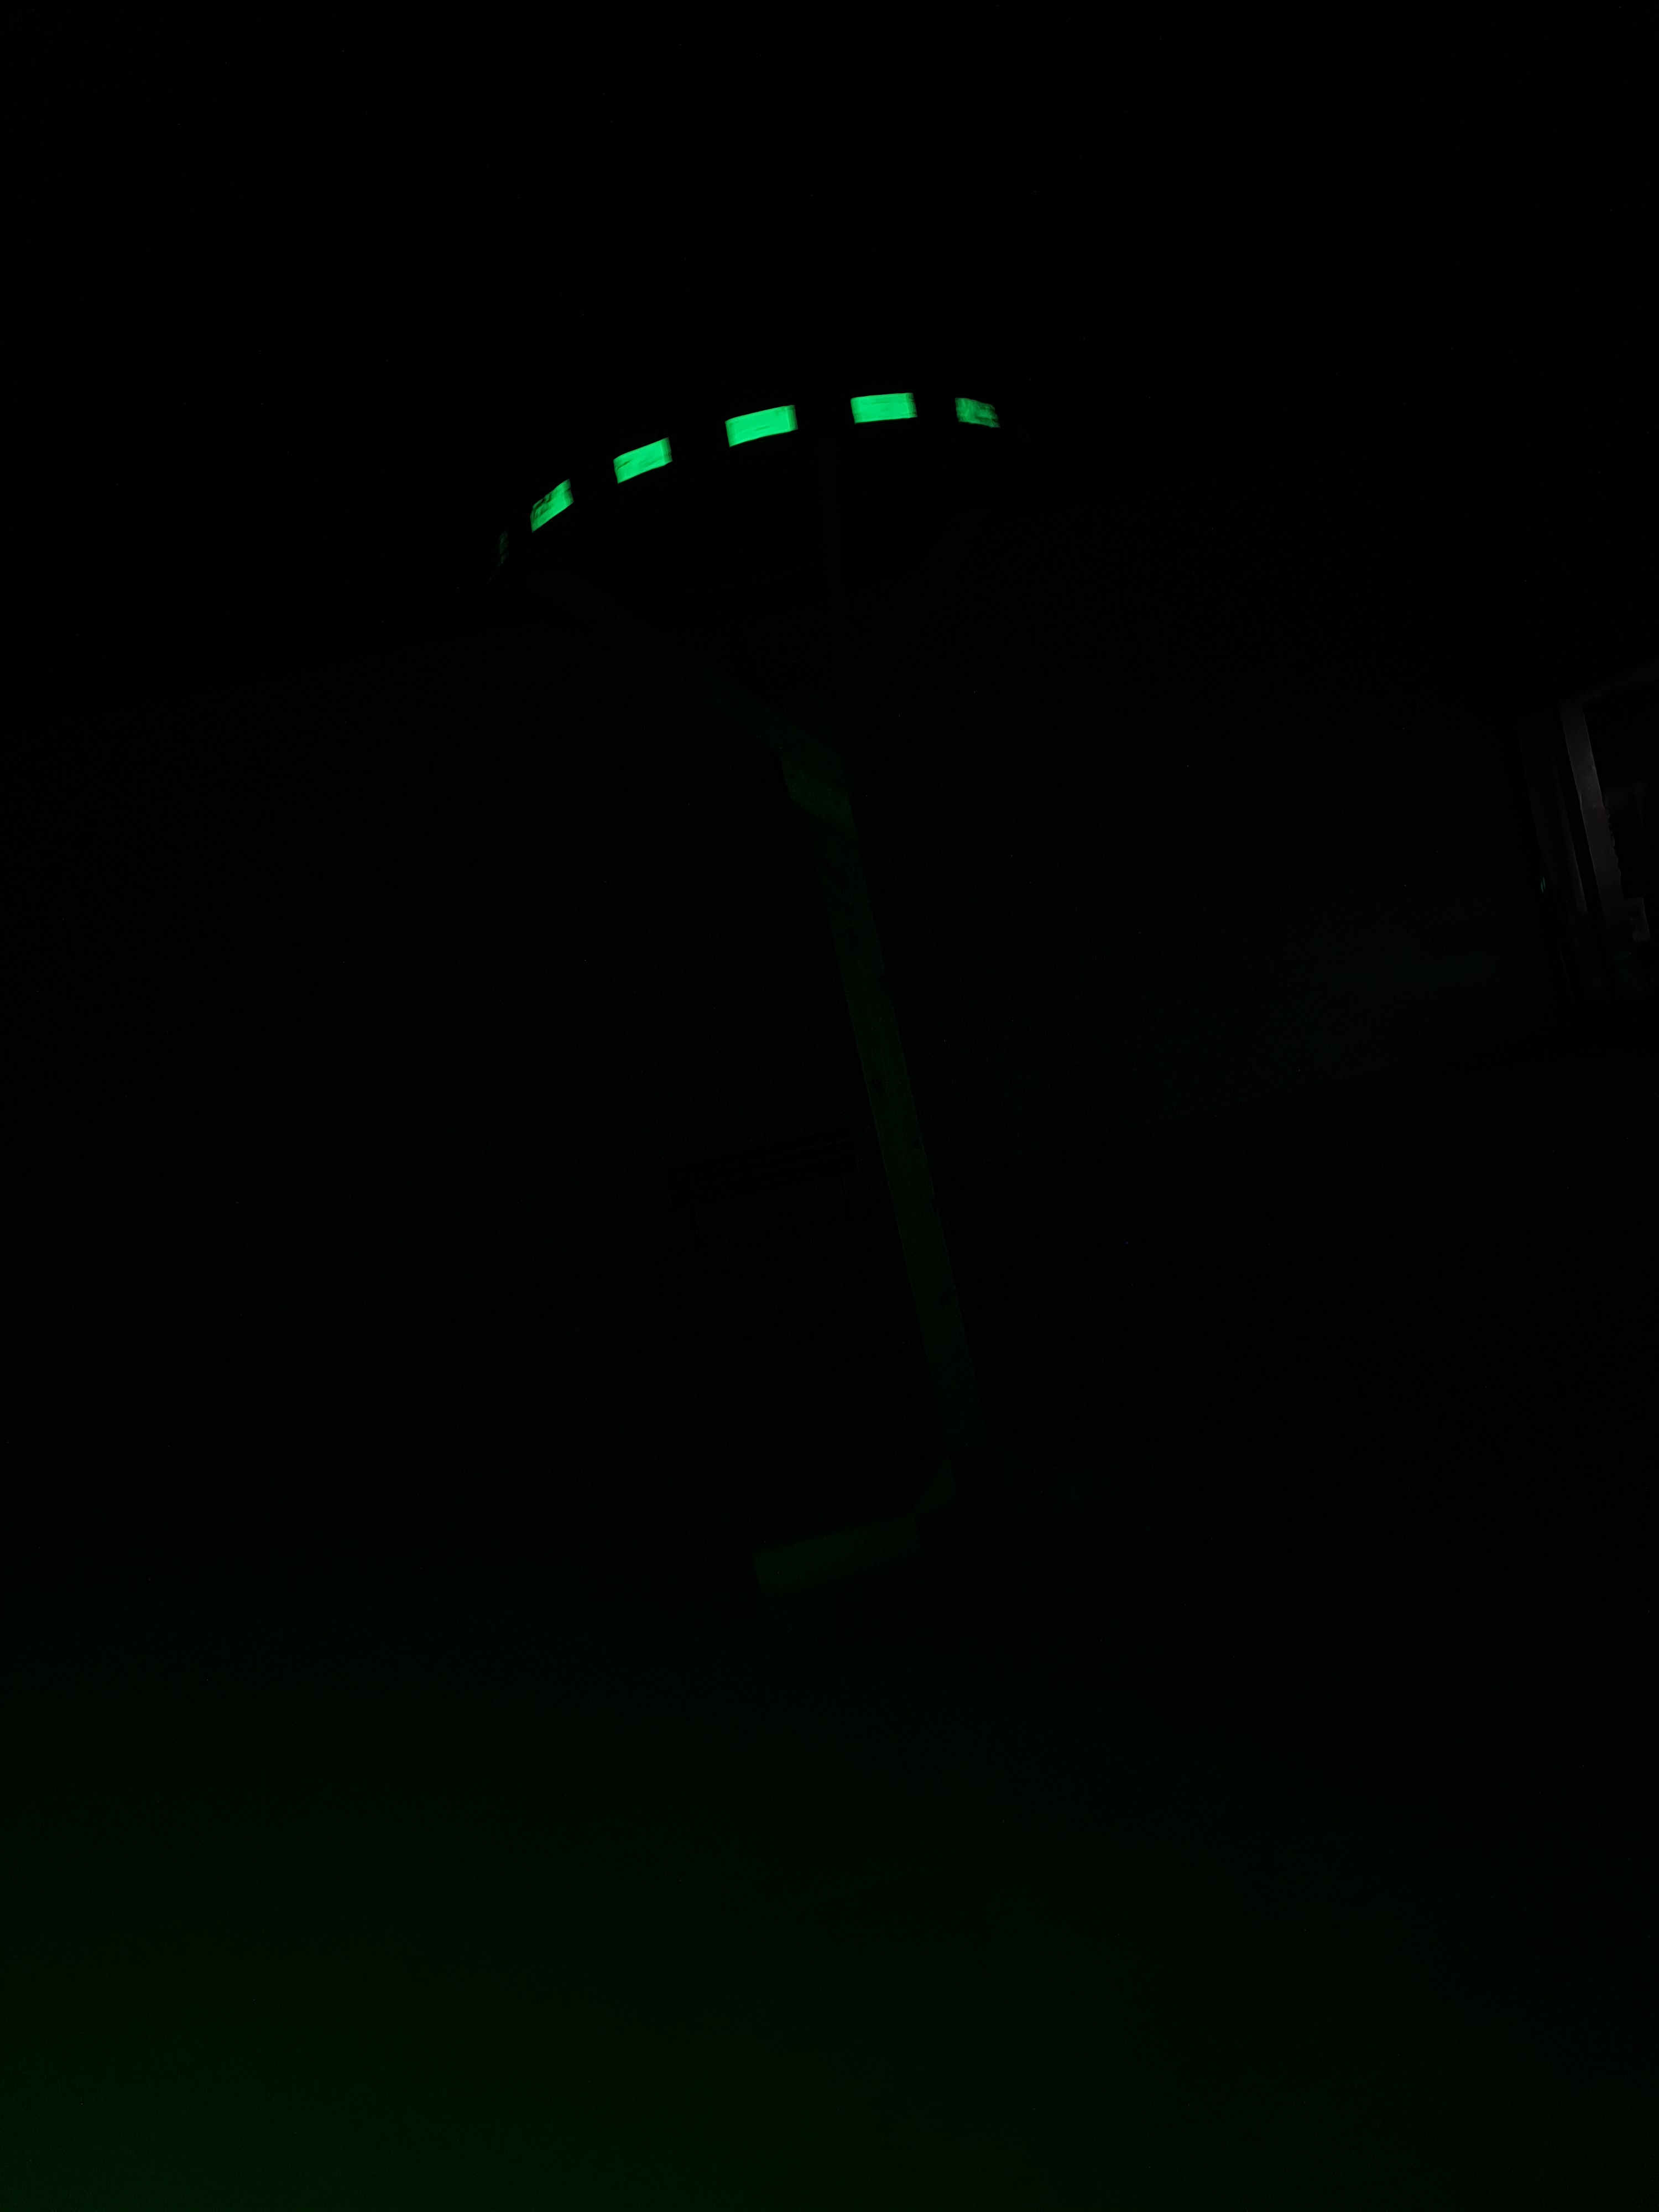hoop: (530, 390, 999, 533)
